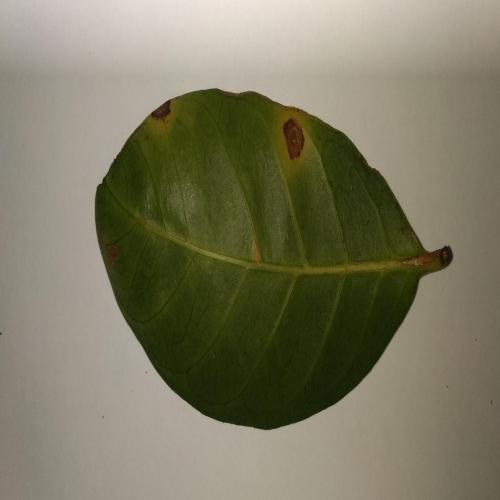cercospora: (148, 99, 176, 134)
